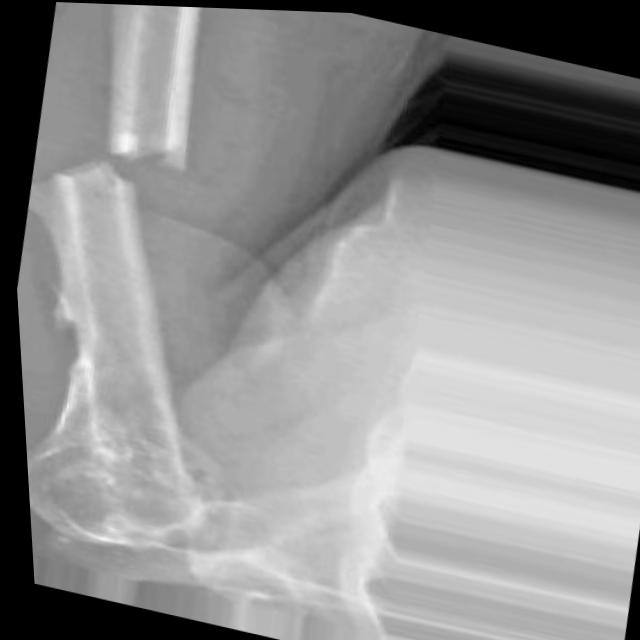fracture: (23, 97, 235, 235)
